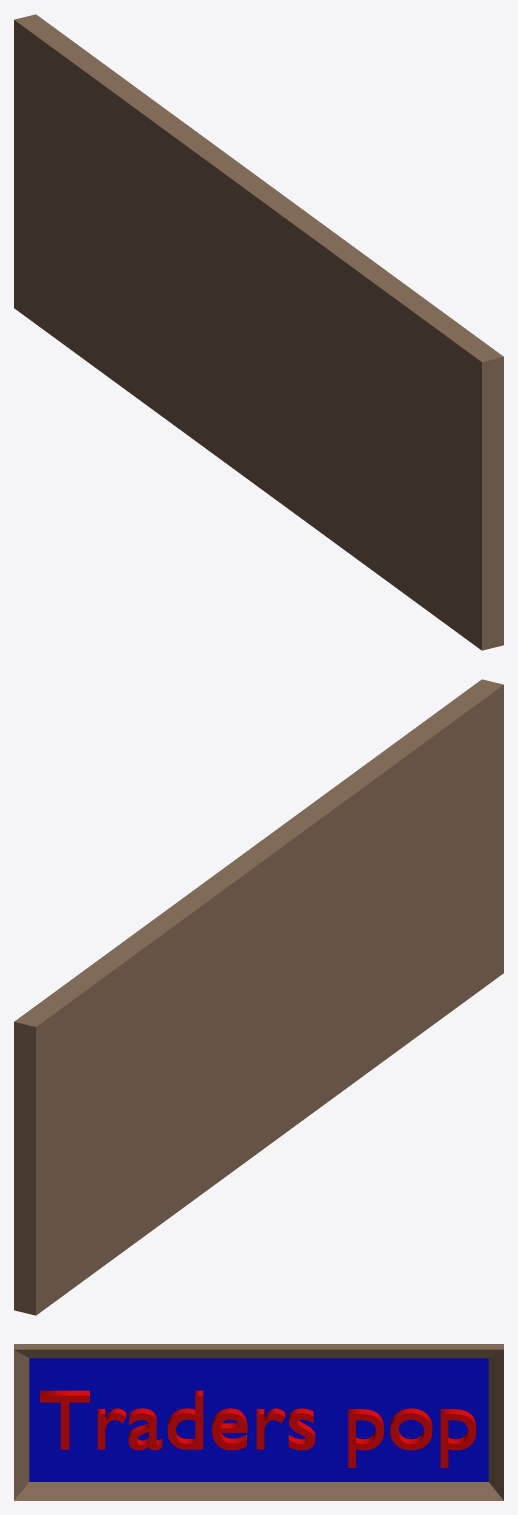
Rendered from WF_TradersPop.fbx.
3 views of the same model, one above another, from view 1: azimuth 30°, elevation 25°; view 2: azimuth 150°, elevation 25°; view 3: azimuth 270°, elevation 25° (orthographic). The views are drawn at different scales.
Visible parts, largest first — view 1: Traders Pop; view 2: Traders Pop; view 3: Traders Pop, Text.013.
Part boxes in pixels (x1,y1,x2,y2): Traders Pop: (14, 14, 503, 650); Traders Pop: (14, 679, 503, 1315); Traders Pop: (14, 1344, 503, 1500); Text.013: (40, 1390, 476, 1467).
Size of the model in its own units: 17.78 by 200 by 588.
